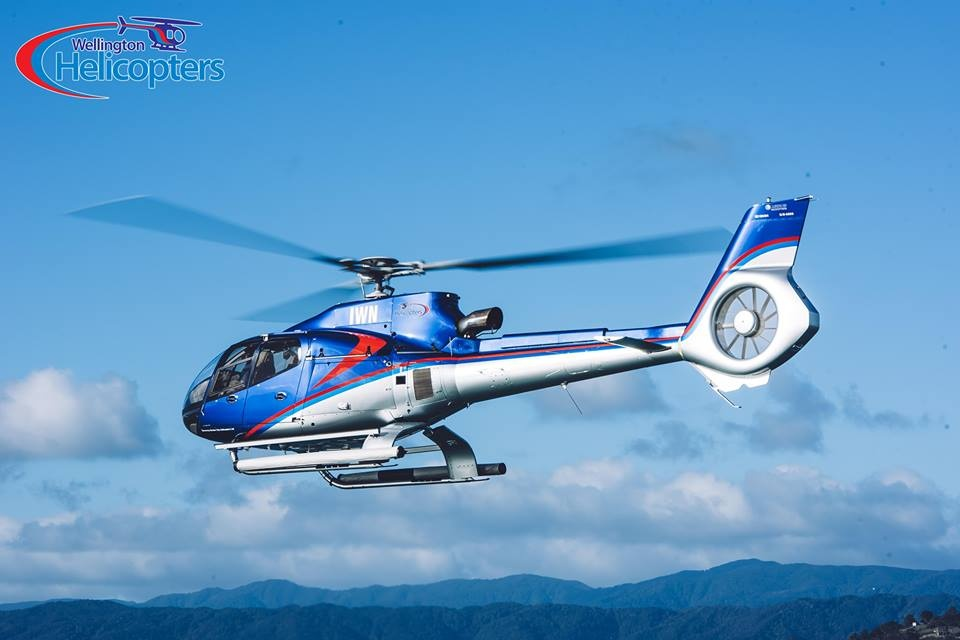Helicopter: (169, 183, 833, 509)
